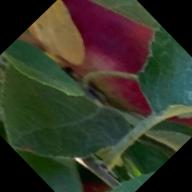Apples: (29, 0, 192, 165)
